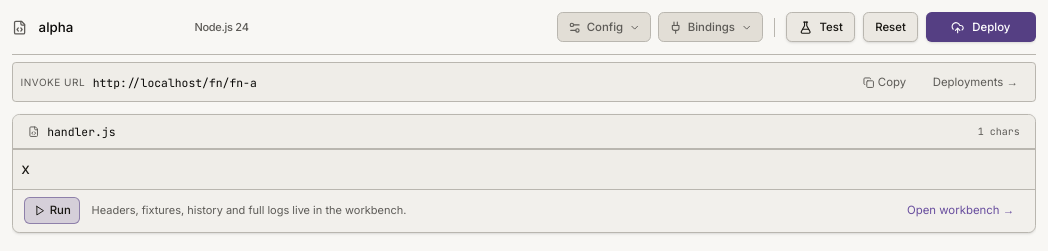
Test: editor result strip › shows the whole answer on one line, not the first line of pretty JSON
Click the button with class "run-btn": click(52, 211) [24, 197, 80, 224]
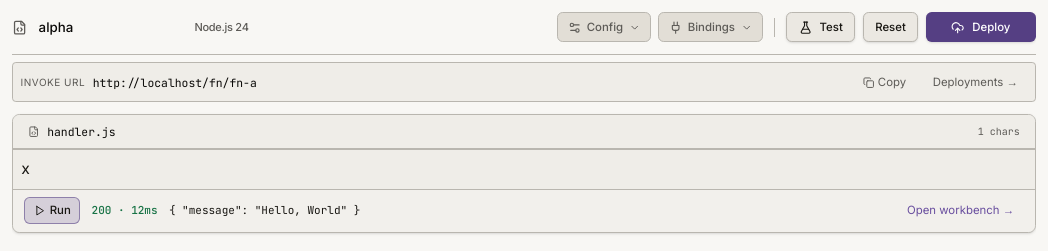
Now the text "{ \"message\": \"Hello, World\" }" is shown, box [169, 203, 360, 217]
Now the text with class "font-mono" reads "200 · 12ms", box [92, 203, 158, 217]
